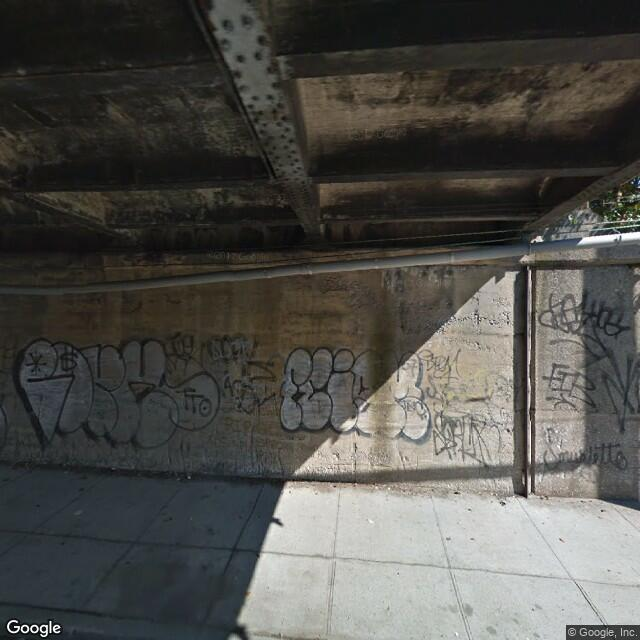litter: (367, 517, 376, 523), (352, 481, 361, 485), (186, 474, 193, 479), (109, 467, 116, 471), (375, 484, 378, 490), (62, 469, 66, 473), (386, 486, 391, 489)
